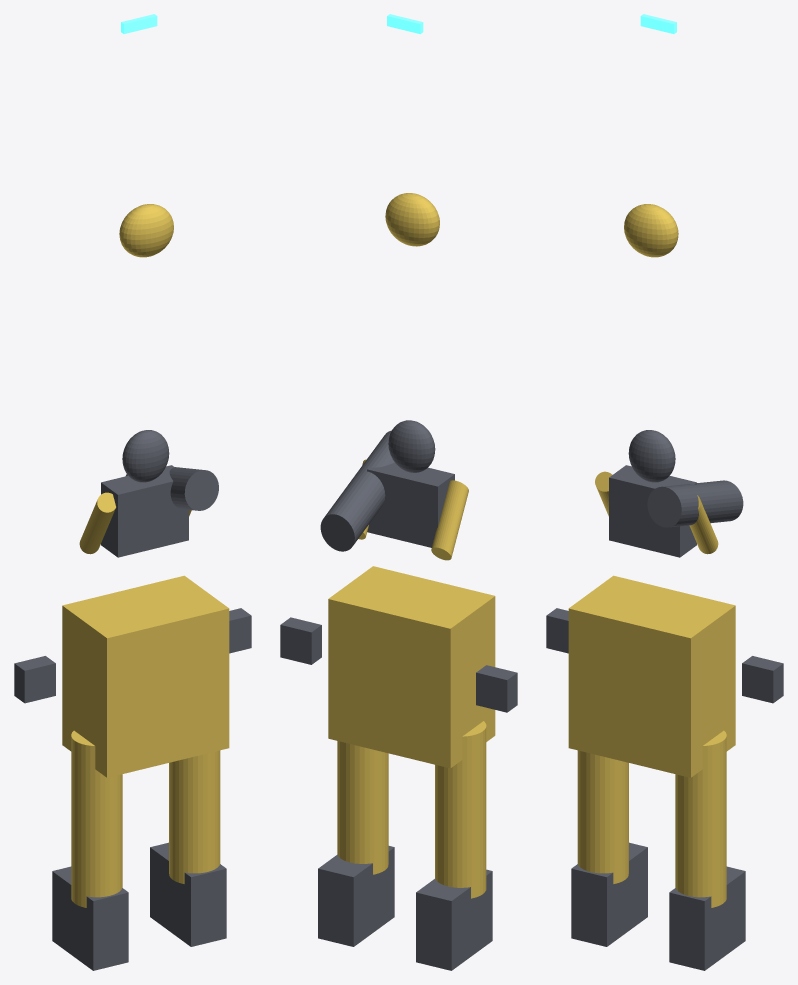
File: CO_VajraLancer_LOD1.glb
The picture shows the model from 3 angles, left to right: view 1: azimuth 30°, elevation 25°; view 2: azimuth 150°, elevation 25°; view 3: azimuth 330°, elevation 25°; orthographic projection.
Parts seen in each view (by area): view 1: Cube.004, Cylinder, Cylinder.001, Cube, Cube.001, Cube.005, Sphere.001, Sphere, Cylinder.004, Cube.002, Cylinder.002, Cube.003; view 2: Cube.004, Cylinder, Cylinder.001, Cube, Cube.001, Cube.005, Cylinder.004, Sphere.001, Sphere, Cube.002, Cube.003, Cylinder.002; view 3: Cube.004, Cylinder.001, Cylinder, Cube.001, Cube, Cube.005, Cylinder.004, Sphere.001, Sphere, Cube.003, Cube.002, Cylinder.003.
Boxes of the visible parts, box(x1,y1,x2,y2) form: Cube.004: box(62, 575, 229, 777); Cylinder: box(71, 730, 122, 907); Cylinder.001: box(169, 750, 220, 883); Cube: box(52, 866, 128, 970); Cube.001: box(150, 842, 226, 946); Cube.005: box(101, 465, 188, 557); Sphere.001: box(119, 204, 173, 257); Sphere: box(122, 430, 169, 482); Cylinder.004: box(126, 467, 218, 510); Cube.002: box(14, 656, 55, 703); Cylinder.002: box(79, 492, 116, 554); Cube.003: box(229, 608, 251, 653); Cube.004: box(328, 566, 495, 768); Cylinder: box(435, 721, 486, 898); Cylinder.001: box(337, 741, 388, 874); Cube: box(416, 869, 492, 970); Cube.001: box(318, 846, 394, 946); Cube.005: box(367, 462, 454, 547); Cylinder.004: box(320, 430, 394, 551); Sphere.001: box(385, 193, 439, 246); Sphere: box(388, 420, 435, 472); Cube.002: box(476, 665, 517, 712); Cube.003: box(280, 617, 321, 664); Cylinder.002: box(431, 480, 468, 560); Cube.004: box(568, 575, 735, 777); Cylinder.001: box(675, 730, 726, 907); Cylinder: box(577, 750, 628, 883); Cube.001: box(669, 866, 745, 970); Cube: box(571, 842, 647, 946); Cube.005: box(609, 465, 696, 557); Cylinder.004: box(647, 480, 743, 527); Sphere.001: box(624, 204, 678, 257); Sphere: box(628, 430, 675, 482); Cube.003: box(742, 656, 783, 703); Cube.002: box(546, 608, 568, 653); Cylinder.003: box(689, 495, 718, 554).
Size of what is drawn, in the model's own units: 1.02 by 3.96 by 0.4997.
